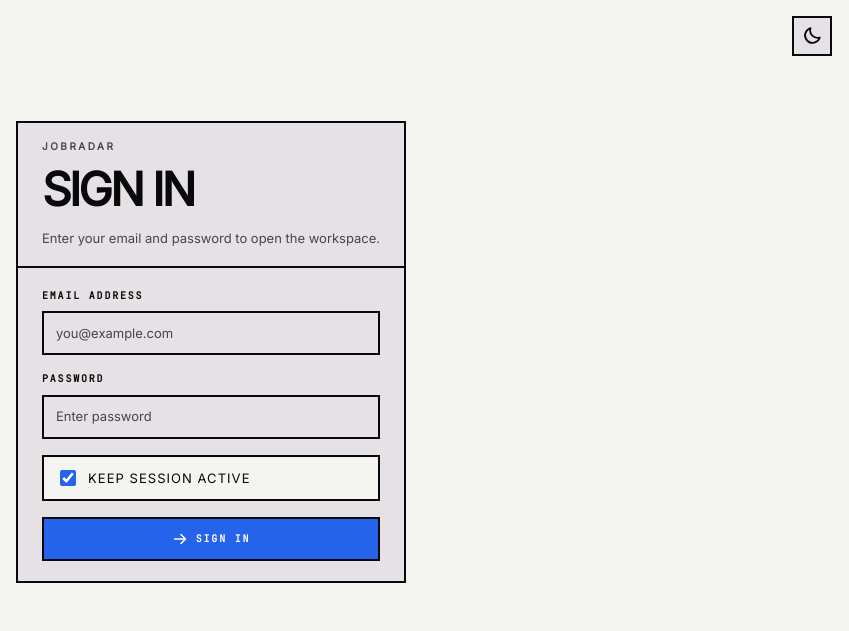
Test: Login › shows network error message when backend is unreachable
This screenshot has width=849, height=631.
Type "user@example.com" into the field with placeholder "you@example.com".
click(211, 333); type("user@example.com")  # box [42,311,380,355]
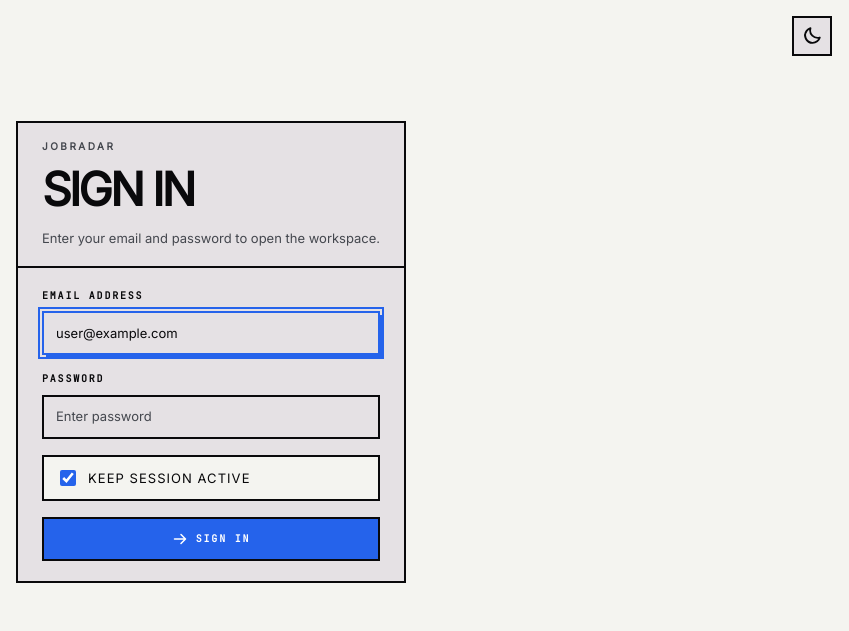
Type "pass" into the password field with placeholder "Enter password".
click(211, 417); type("pass")  # box [42,395,380,439]
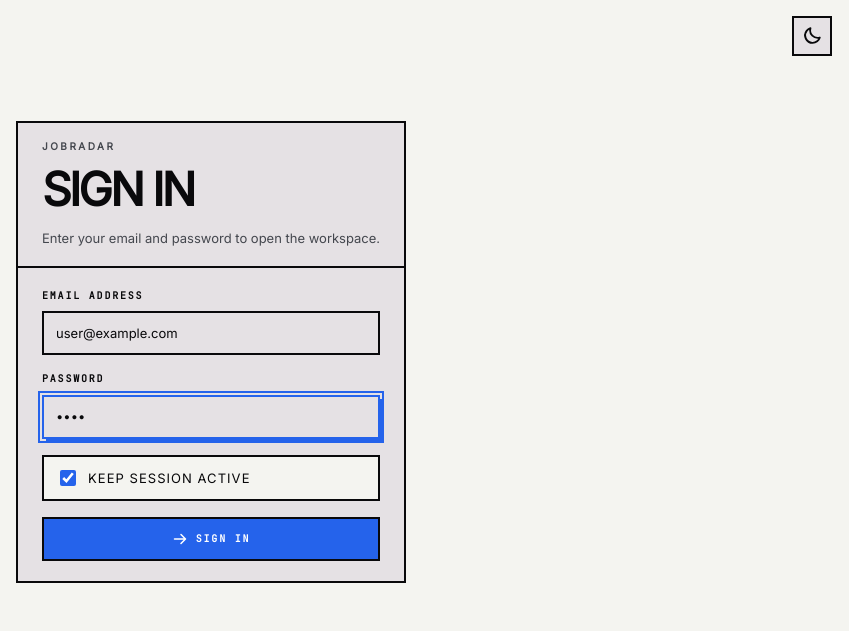
Click the button "Sign in".
click(211, 539)  # box [42,517,380,561]
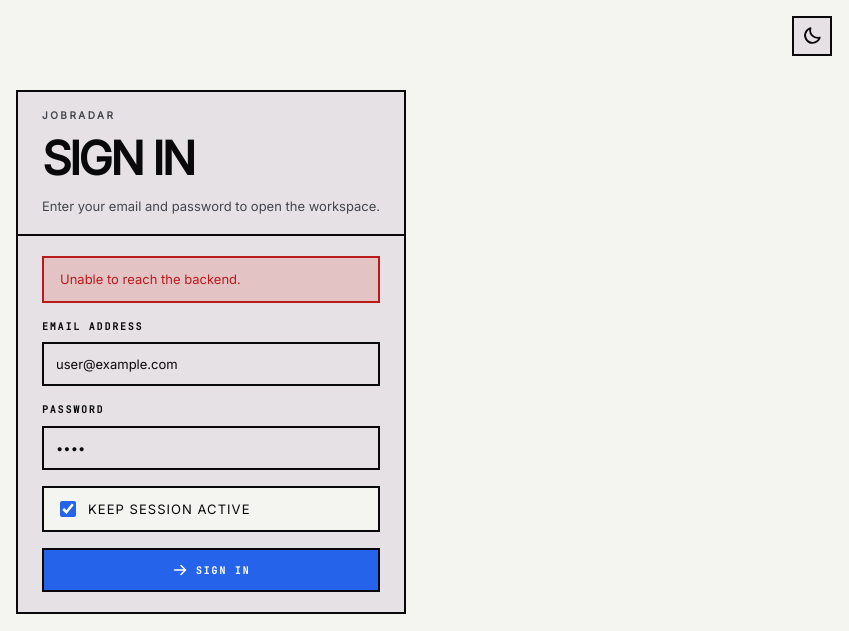
Now the text "Unable to reach the backend." is shown, box [42,256,380,303]
